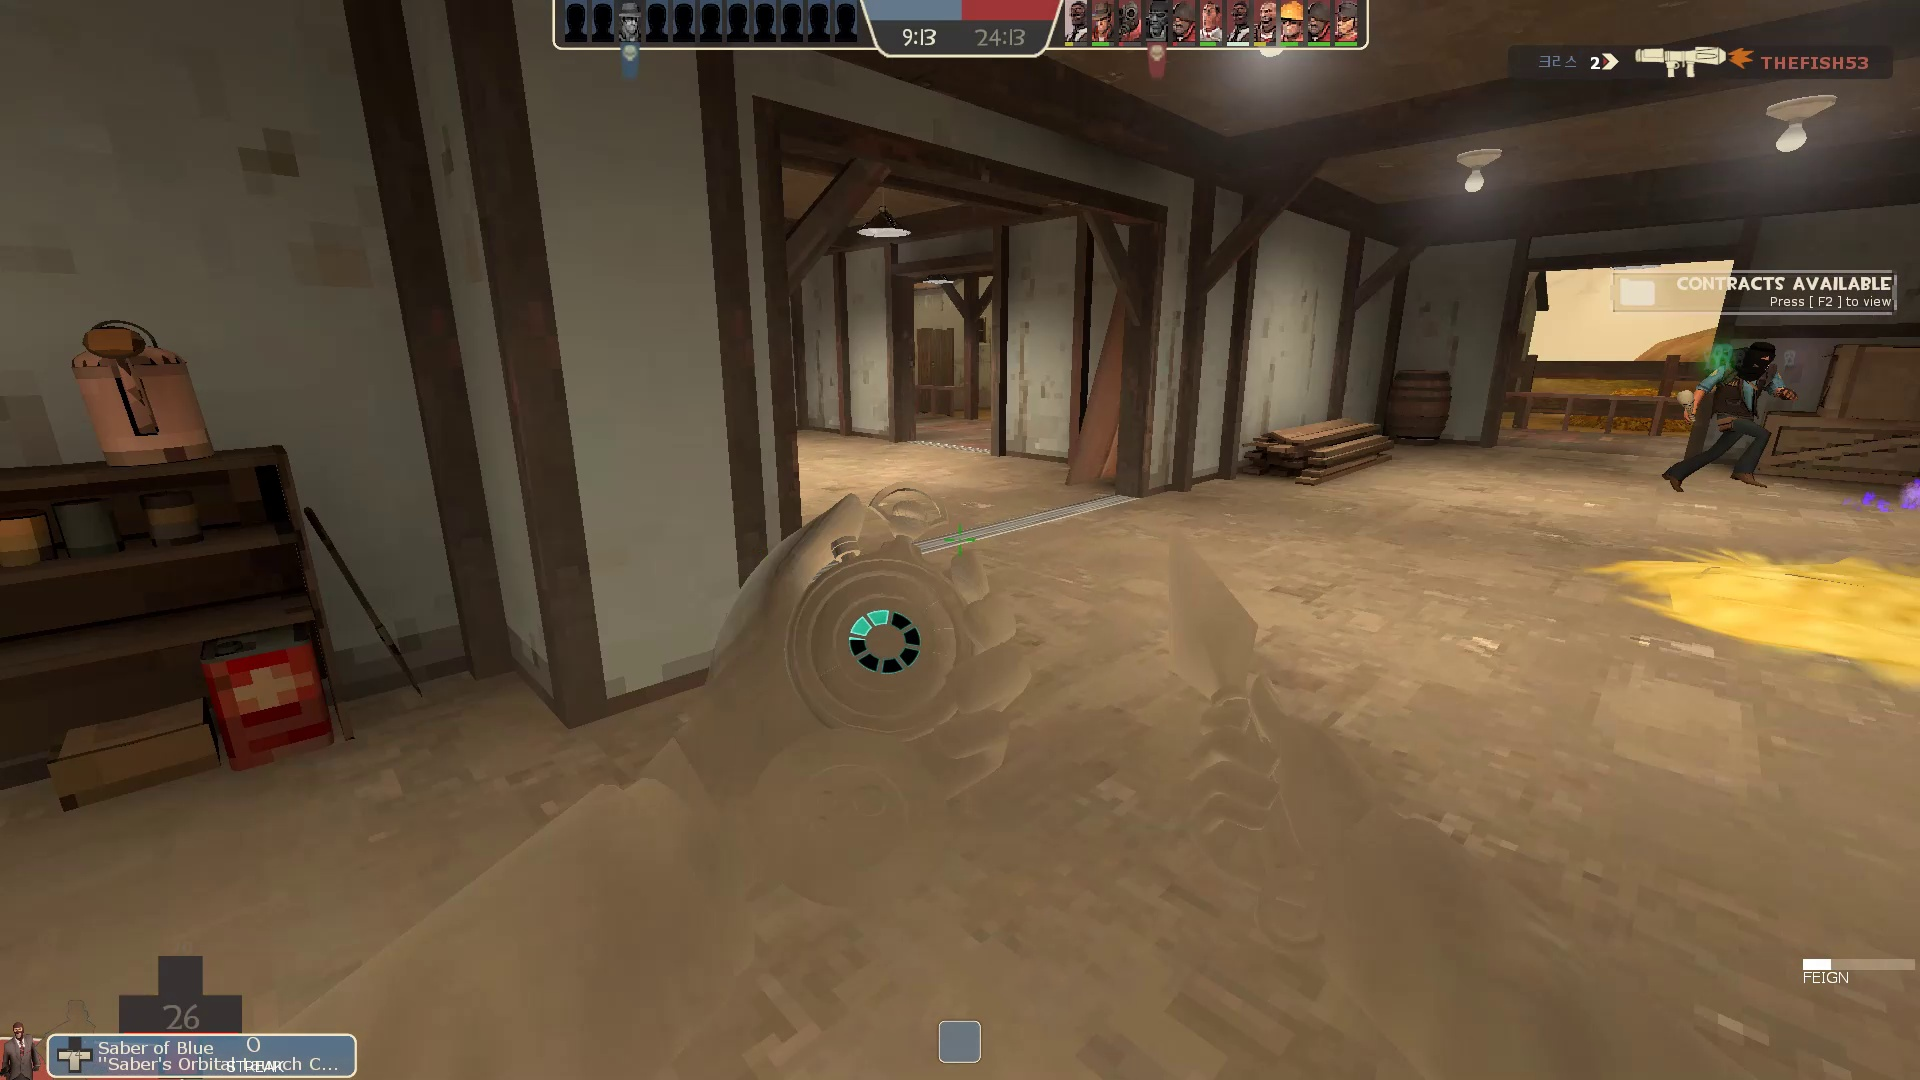blu_sniper: (1656, 335, 1797, 504)
